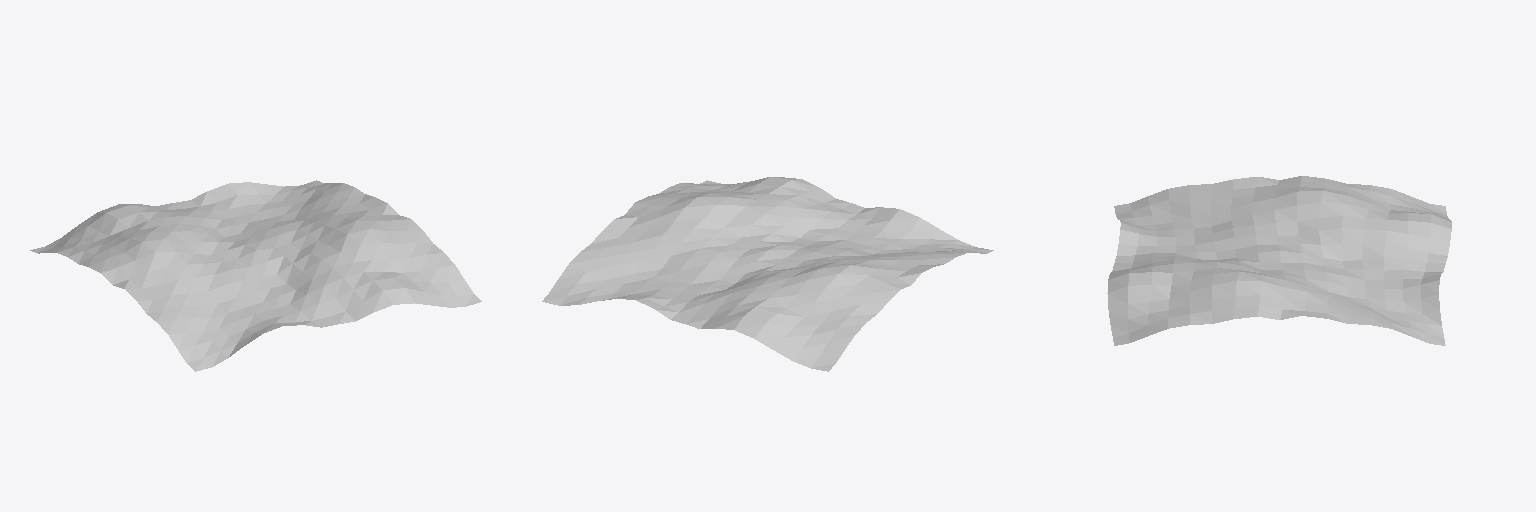
The model's file is water_000071.obj.
The picture shows the model from 3 angles: view 1: azimuth 30°, elevation 25°; view 2: azimuth 150°, elevation 25°; view 3: azimuth 270°, elevation 25°; orthographic projection.
Parts seen in each view (by area): view 1: Plan.003_Plan.001; view 2: Plan.003_Plan.001; view 3: Plan.003_Plan.001.
Boxes of the visible parts, box(x1,y1,x2,y2) form: Plan.003_Plan.001: box(30, 180, 481, 371); Plan.003_Plan.001: box(542, 177, 993, 371); Plan.003_Plan.001: box(1107, 176, 1451, 345).
Size of the model in its own units: 60654 by 8249 by 62785.